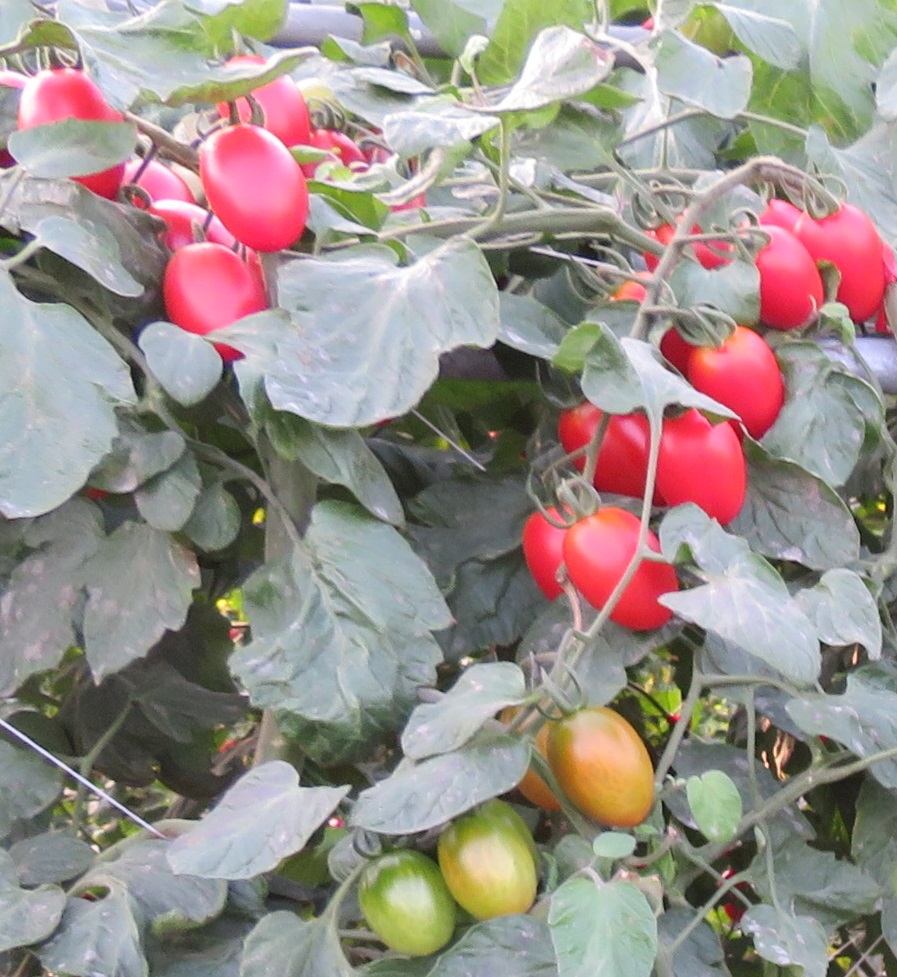green: (353, 850, 460, 955), (441, 810, 540, 918)
orange: (552, 512, 686, 632), (197, 122, 313, 250), (548, 703, 658, 826), (160, 239, 266, 364), (793, 197, 884, 330), (648, 410, 748, 526), (672, 343, 791, 438), (498, 689, 567, 811), (744, 225, 823, 328)
red: (15, 68, 126, 199), (554, 400, 670, 507), (216, 53, 313, 150), (640, 212, 734, 276), (517, 508, 580, 603), (149, 197, 232, 247), (120, 155, 194, 204), (305, 128, 368, 184)
